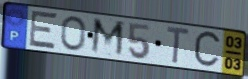5: (128, 21, 152, 61)
C: (192, 29, 224, 70)
E: (27, 9, 59, 51)
M: (89, 17, 127, 60)
O: (60, 15, 87, 53)
T: (165, 24, 192, 66)
